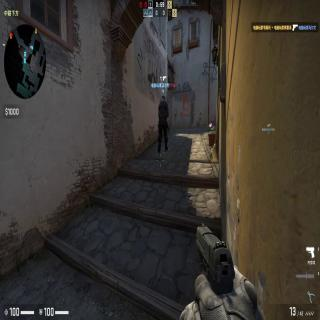CT-Body: (158, 95, 168, 154)
CT-Head: (160, 95, 166, 101)
